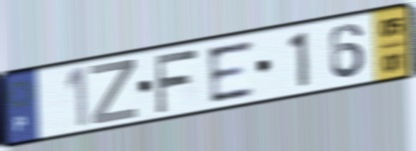1: (62, 64, 90, 132), (286, 28, 313, 90)
6: (328, 23, 368, 81)
E: (204, 37, 257, 106)
F: (152, 46, 200, 116)
Z: (88, 57, 140, 128)
